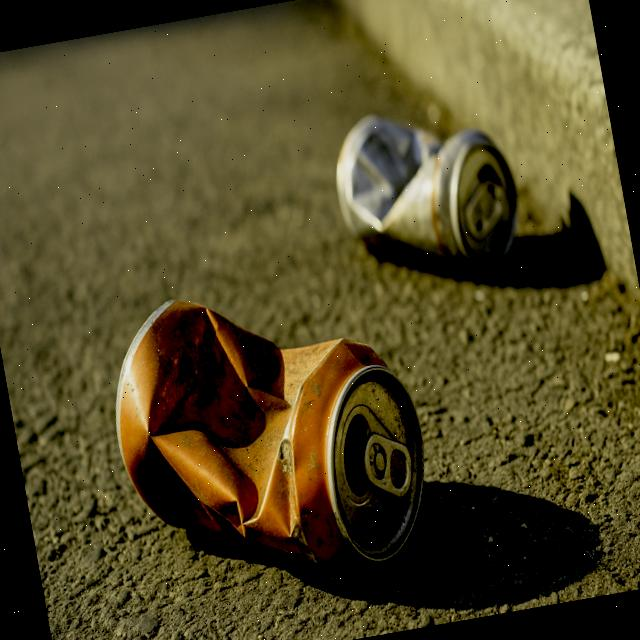aluminum: (91, 258, 444, 614), (324, 91, 532, 295)
